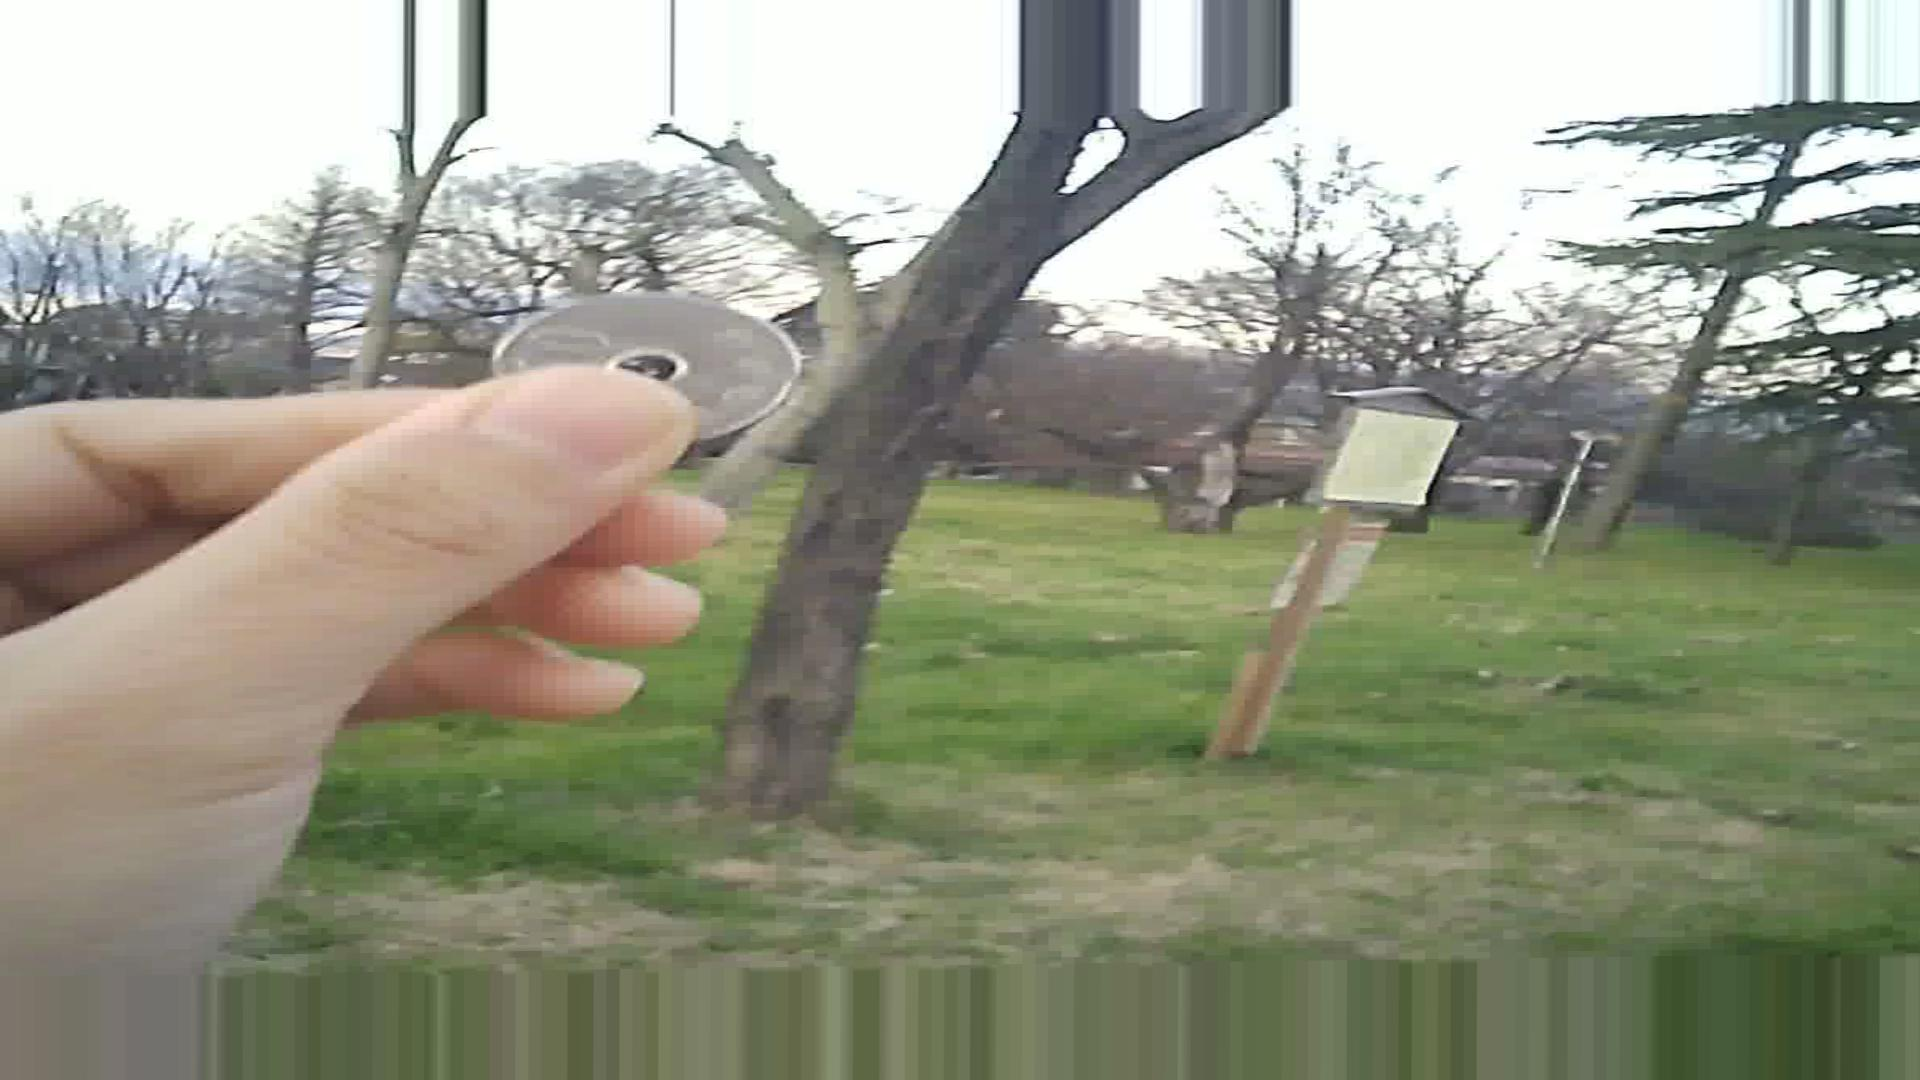50 Yen: (484, 285, 787, 444)
